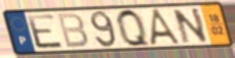9: (88, 10, 118, 49)
A: (148, 7, 185, 46)
B: (55, 12, 90, 49)
E: (25, 13, 66, 50)
N: (170, 7, 210, 45)
Q: (115, 7, 154, 49)
